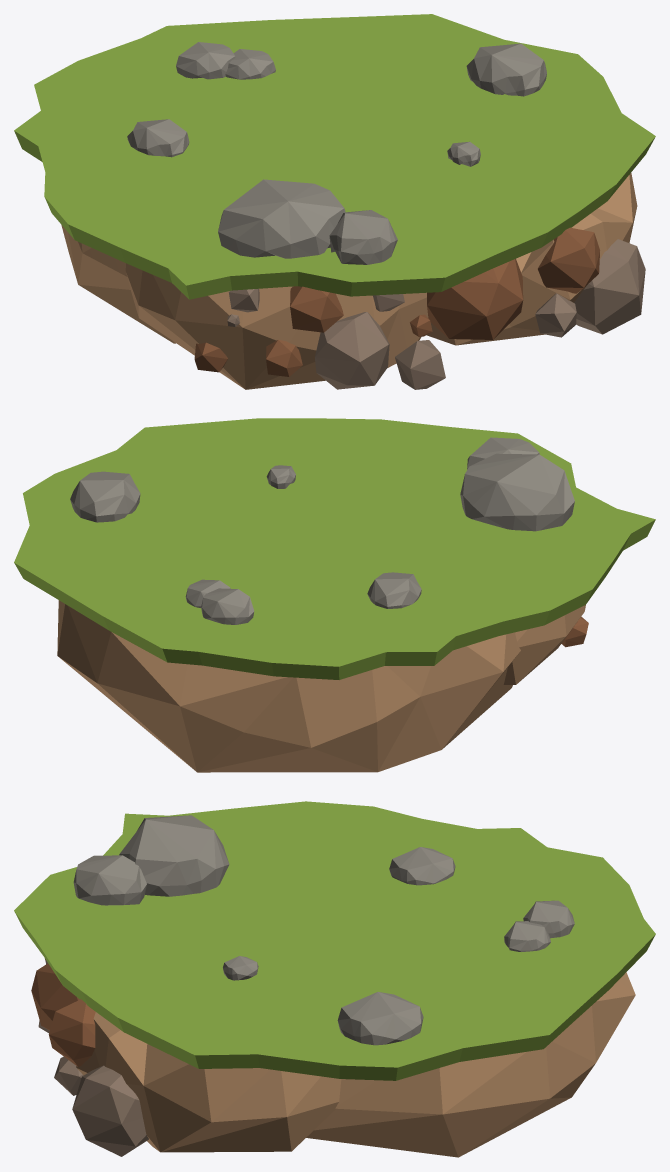
File: testIsland.gltf
3 views of the same model, one above another, from view 1: azimuth 30°, elevation 25°; view 2: azimuth 150°, elevation 25°; view 3: azimuth 270°, elevation 25° (orthographic). The views are drawn at different scales.
Visible parts, largest first — view 1: Icosphere.008; view 2: Icosphere.008; view 3: Icosphere.008.
Boxes of the visible parts, bbox=[...] form: Icosphere.008: bbox=[14, 14, 655, 389]; Icosphere.008: bbox=[14, 418, 655, 772]; Icosphere.008: bbox=[14, 801, 655, 1157].
Size of the model in its own units: 2.08 by 0.824 by 2.12.
